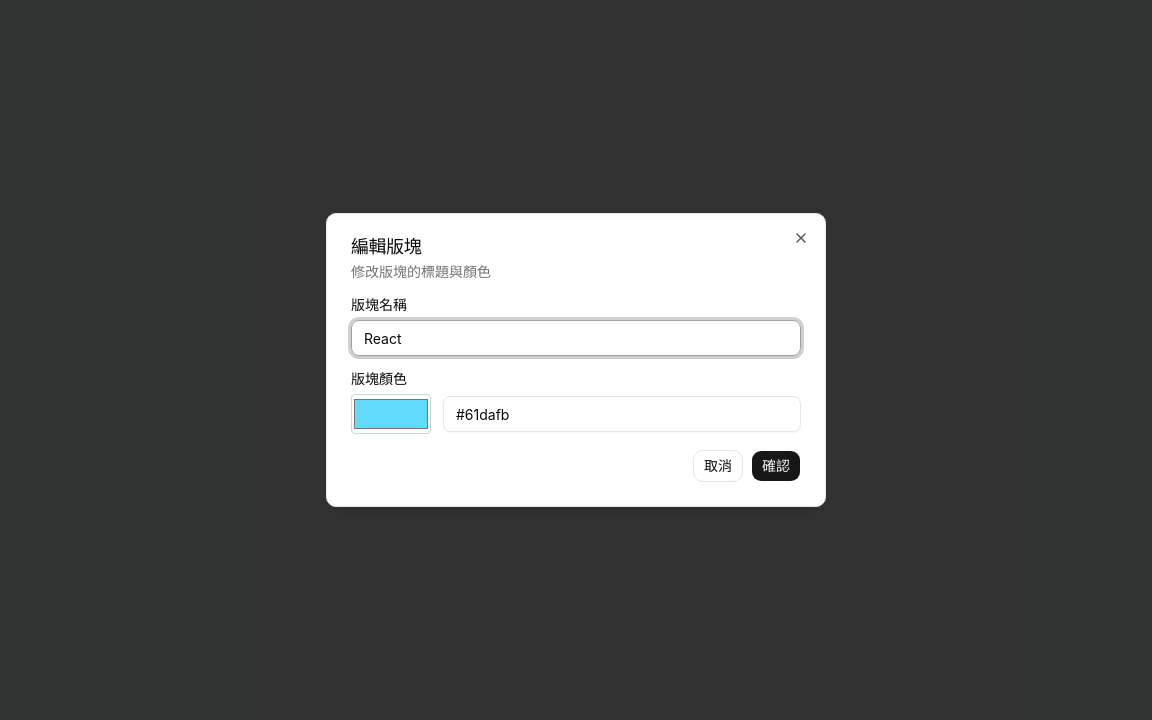
Test: CategoryDialog › Edit Mode › disables submit button when title is empty
The width and height of the screenshot is (1152, 720).
Clear the field labelled "版塊名稱" at (576, 338), box [351,320,801,356]
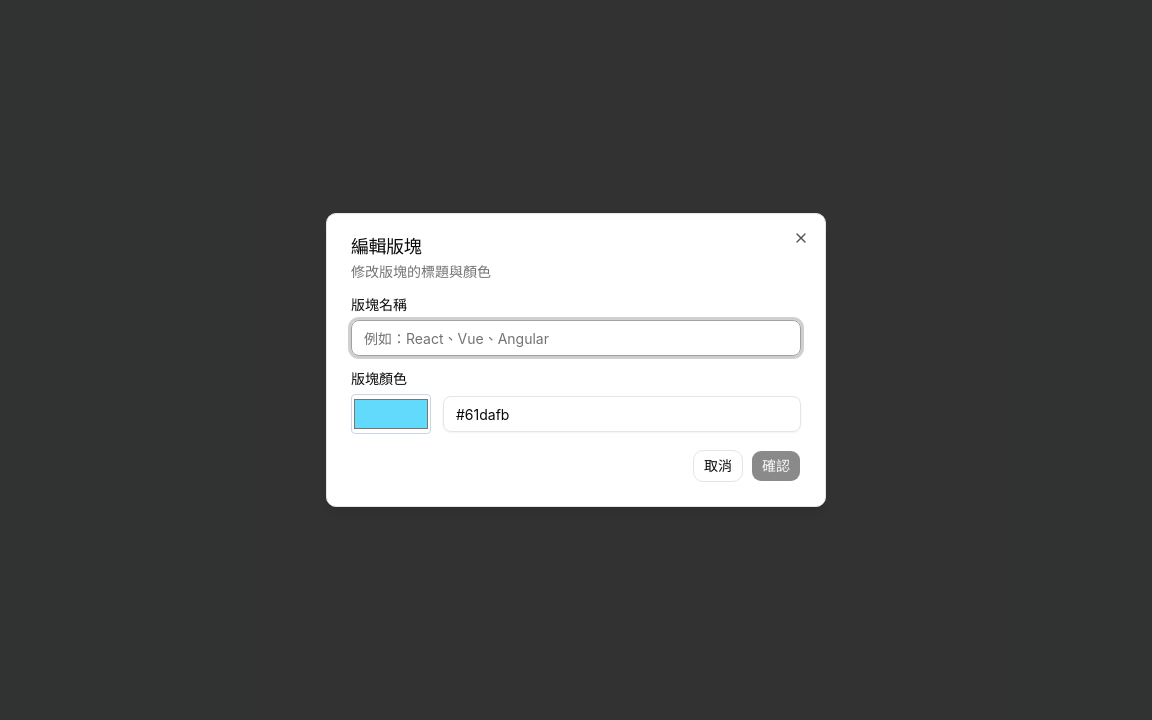
Result: the button "確認" is disabled at [751,450,801,482]
